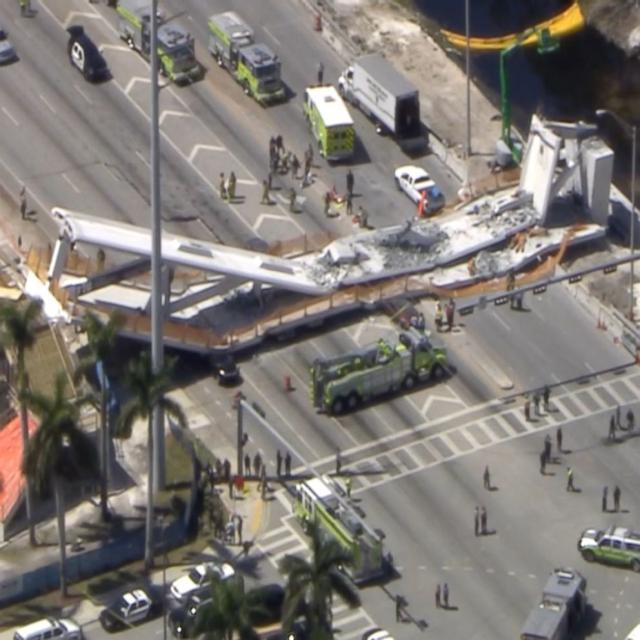collapsed_building: (8, 104, 628, 341)
